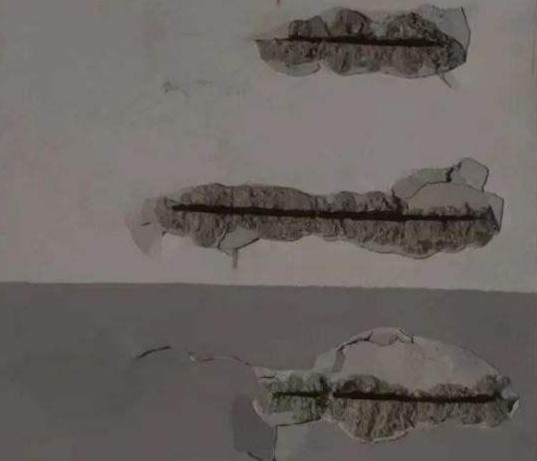Exposed reinforcement: (171, 202, 487, 223), (272, 390, 495, 405), (282, 35, 437, 47)
Spalling: (136, 325, 521, 461), (125, 157, 506, 270), (253, 4, 473, 89)
